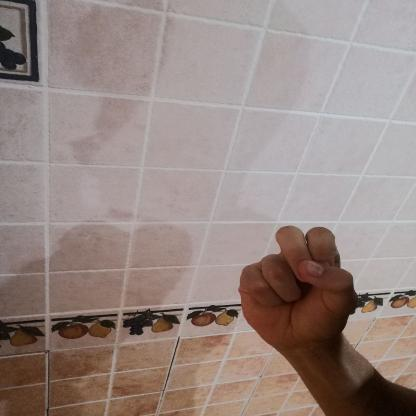QAAF: (216, 217, 372, 357)
